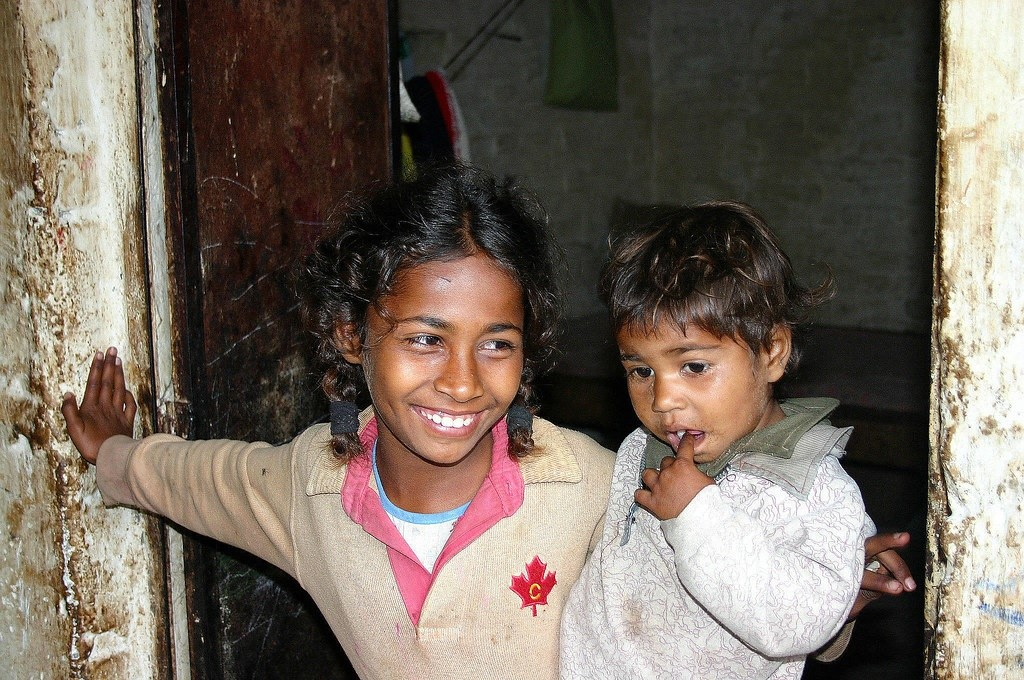face_no_mask: (332, 185, 530, 469), (611, 202, 789, 462)
